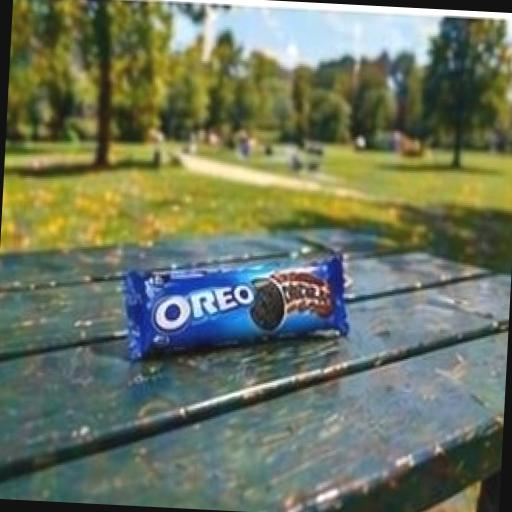oreo: (96, 191, 406, 410)
